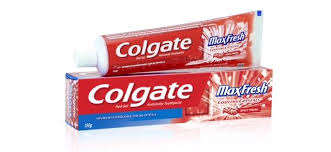colgate-small: (63, 67, 276, 127)
